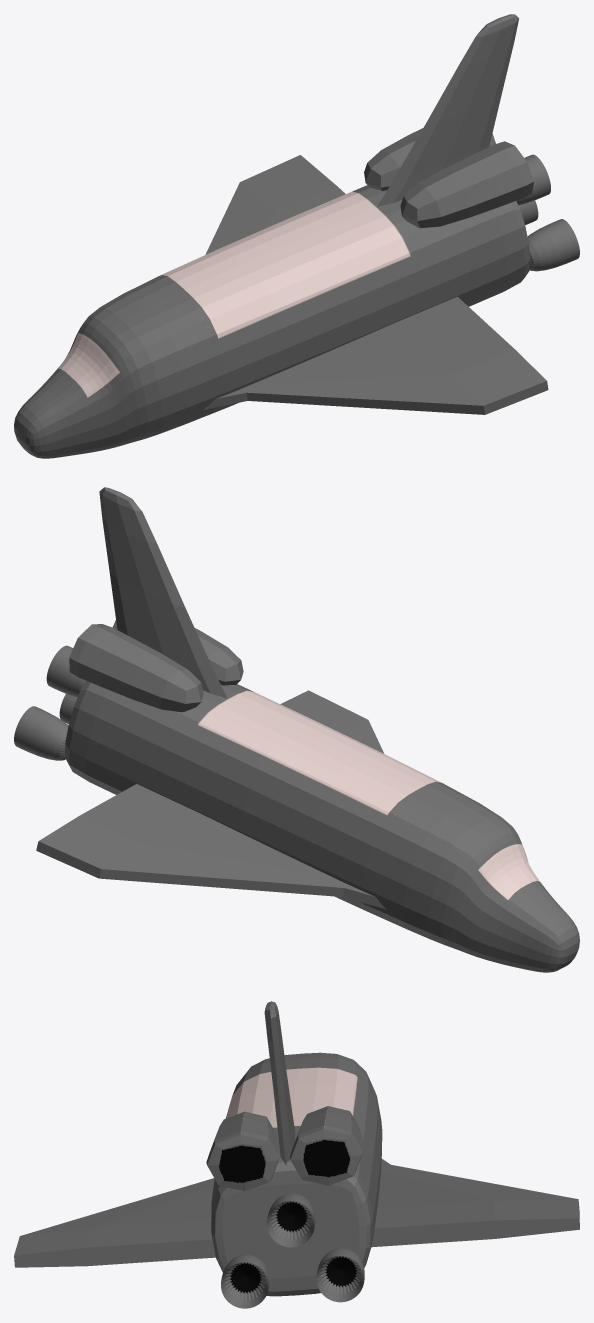
Rendered from nave.obj.
The picture shows the model from 3 angles, top to bottom: view 1: azimuth 30°, elevation 25°; view 2: azimuth 150°, elevation 25°; view 3: azimuth 270°, elevation 25°; orthographic projection. The views are drawn at different scales.
Parts seen in each view (by area): view 1: nave_Cube.003; view 2: nave_Cube.003; view 3: nave_Cube.003.
Boxes of the visible parts, x1,y1,x2,y2 form: nave_Cube.003: [14, 14, 579, 458]; nave_Cube.003: [14, 487, 579, 972]; nave_Cube.003: [14, 1001, 579, 1308].
Size of the model in its own units: 0.9553 by 0.6018 by 0.8064.
Materials: 1 (1 with a texture image).
